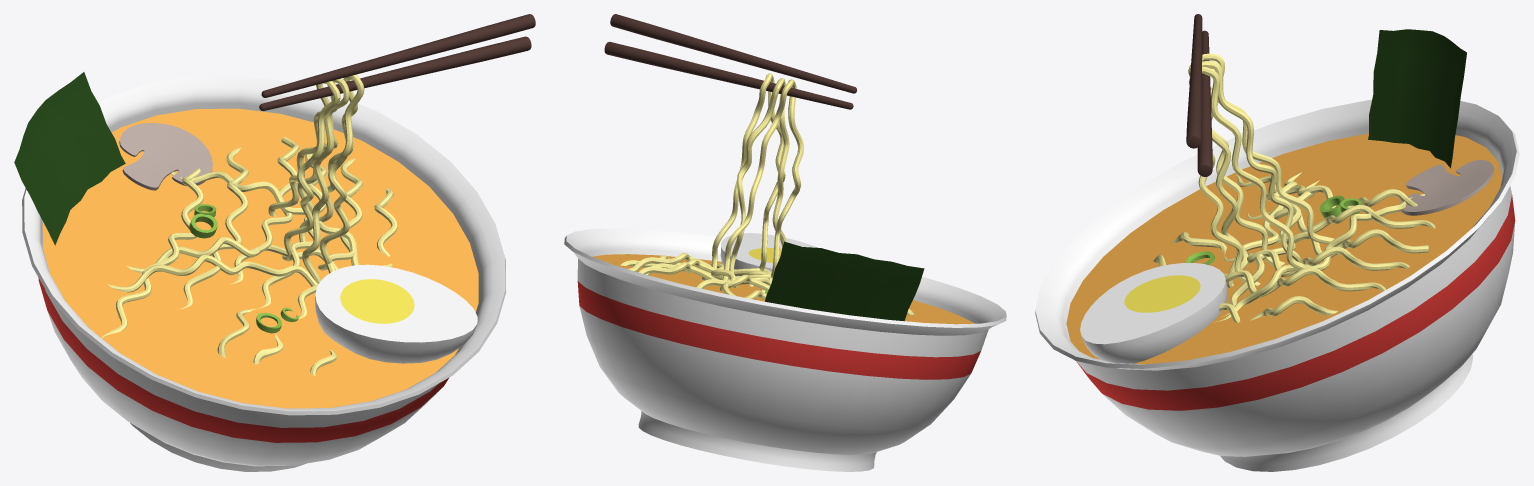
File: steaming_bowl.glb
3 views of the same model, side by side, from view 1: azimuth 30°, elevation 25°; view 2: azimuth 150°, elevation 25°; view 3: azimuth 270°, elevation 25° (orthographic). The views are drawn at different scales.
Visible parts, largest first — view 1: Circle.2301, Circle.2246, Circle.2303, Circle.2302, Circle.2300, Circle.2298, Circle.2304, Circle.2315, Circle.2313, Circle.2314, Circle.2308, Circle.2316 (+7 smaller); view 2: Circle.2246, Circle.2302, Circle.2298, Circle.2304, Circle.2315, Circle.2301, Circle.2314, Circle.2313, Circle.2303, Circle.2311, Circle.2309, Circle.2312; view 3: Circle.2246, Circle.2301, Circle.2303, Circle.2302, Circle.2300, Circle.2313, Circle.2314, Circle.2315, Circle.2310, Circle.2298, Circle.2306, Circle.2309 (+7 smaller).
Part boxes in pixels (x1,y1,x2,y2): Circle.2301: (42, 108, 478, 408); Circle.2246: (22, 75, 506, 471); Circle.2303: (315, 264, 477, 363); Circle.2302: (14, 72, 125, 245); Circle.2300: (119, 123, 212, 190); Circle.2298: (261, 14, 535, 97); Circle.2304: (259, 36, 531, 110); Circle.2315: (268, 81, 340, 261); Circle.2313: (318, 74, 364, 270); Circle.2314: (297, 78, 349, 283); Circle.2308: (107, 254, 317, 292); Circle.2316: (101, 168, 203, 337); Circle.2246: (564, 228, 1006, 471); Circle.2302: (765, 241, 924, 321); Circle.2298: (610, 14, 856, 93); Circle.2304: (604, 41, 853, 109); Circle.2315: (720, 79, 803, 292); Circle.2301: (592, 254, 974, 324); Circle.2314: (729, 78, 789, 287); Circle.2313: (711, 73, 785, 286); Circle.2303: (720, 233, 816, 276); Circle.2311: (638, 262, 771, 285); Circle.2309: (627, 252, 771, 275); Circle.2312: (696, 274, 770, 290); Circle.2246: (1035, 100, 1519, 471); Circle.2301: (1066, 133, 1502, 364); Circle.2303: (1080, 263, 1226, 363); Circle.2302: (1368, 29, 1466, 168); Circle.2300: (1399, 160, 1494, 215); Circle.2313: (1189, 66, 1313, 286); Circle.2314: (1202, 61, 1301, 287); Circle.2315: (1188, 53, 1339, 265); Circle.2310: (1171, 232, 1410, 277); Circle.2298: (1186, 14, 1202, 148); Circle.2306: (1213, 194, 1424, 322); Circle.2309: (1153, 254, 1385, 297).
Bounding box in the file's own units: 2.09 × 1.83 × 1.9.
1 material, 1 textured.
